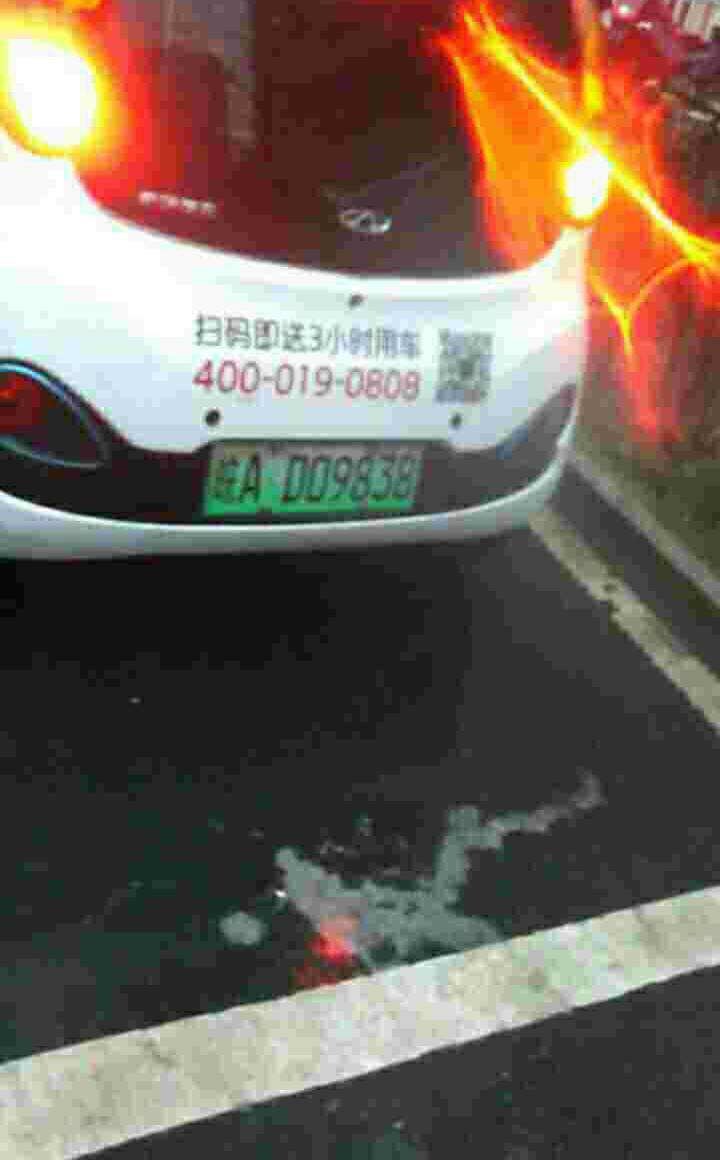car: (215, 447, 429, 515)
